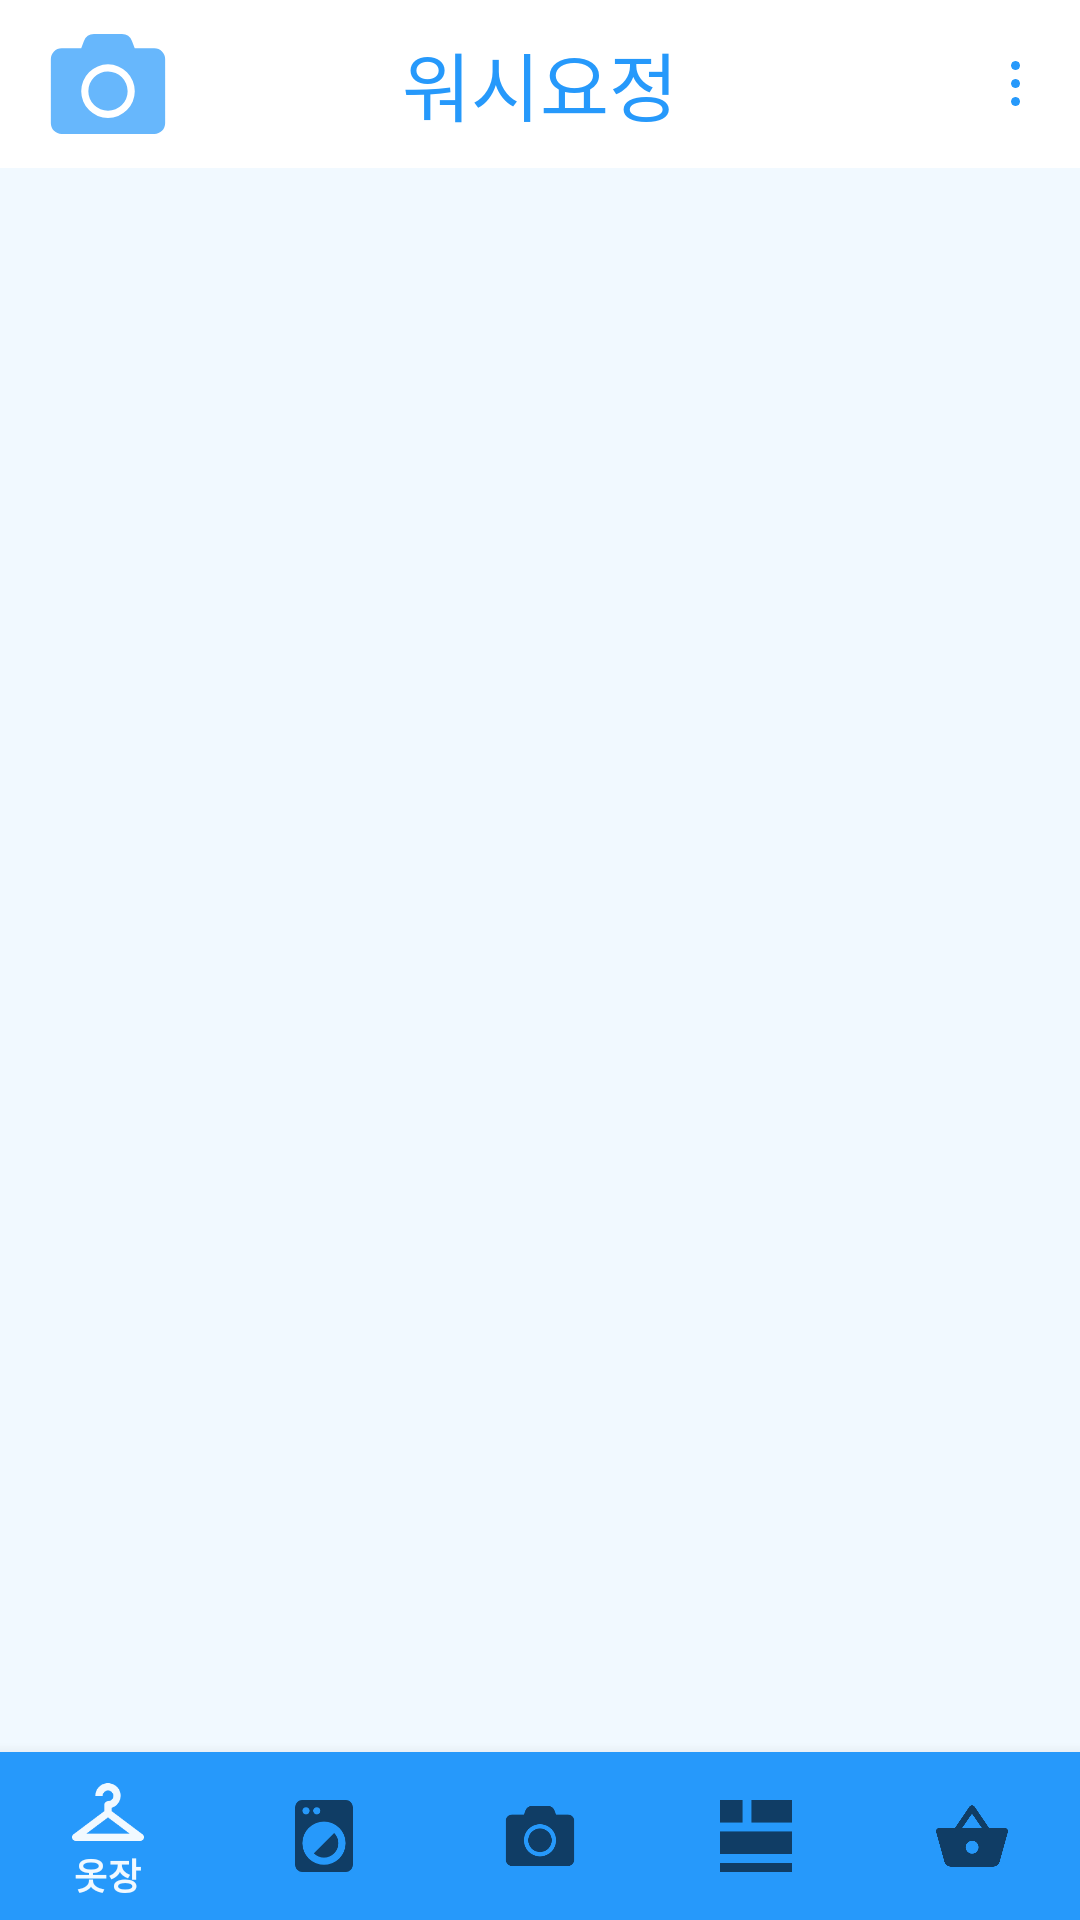

Where to tap for icons on this 1080 × 1920 app screen, as (x,y):
camera: (108,84)
